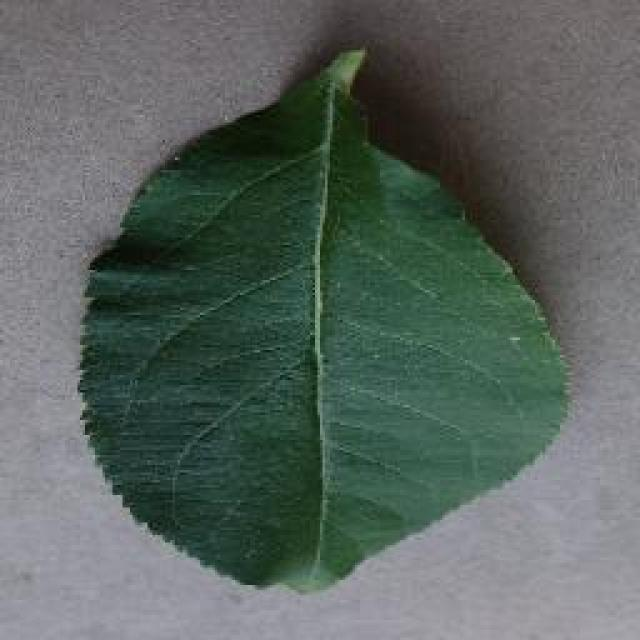apple healthy: (75, 42, 575, 592)
